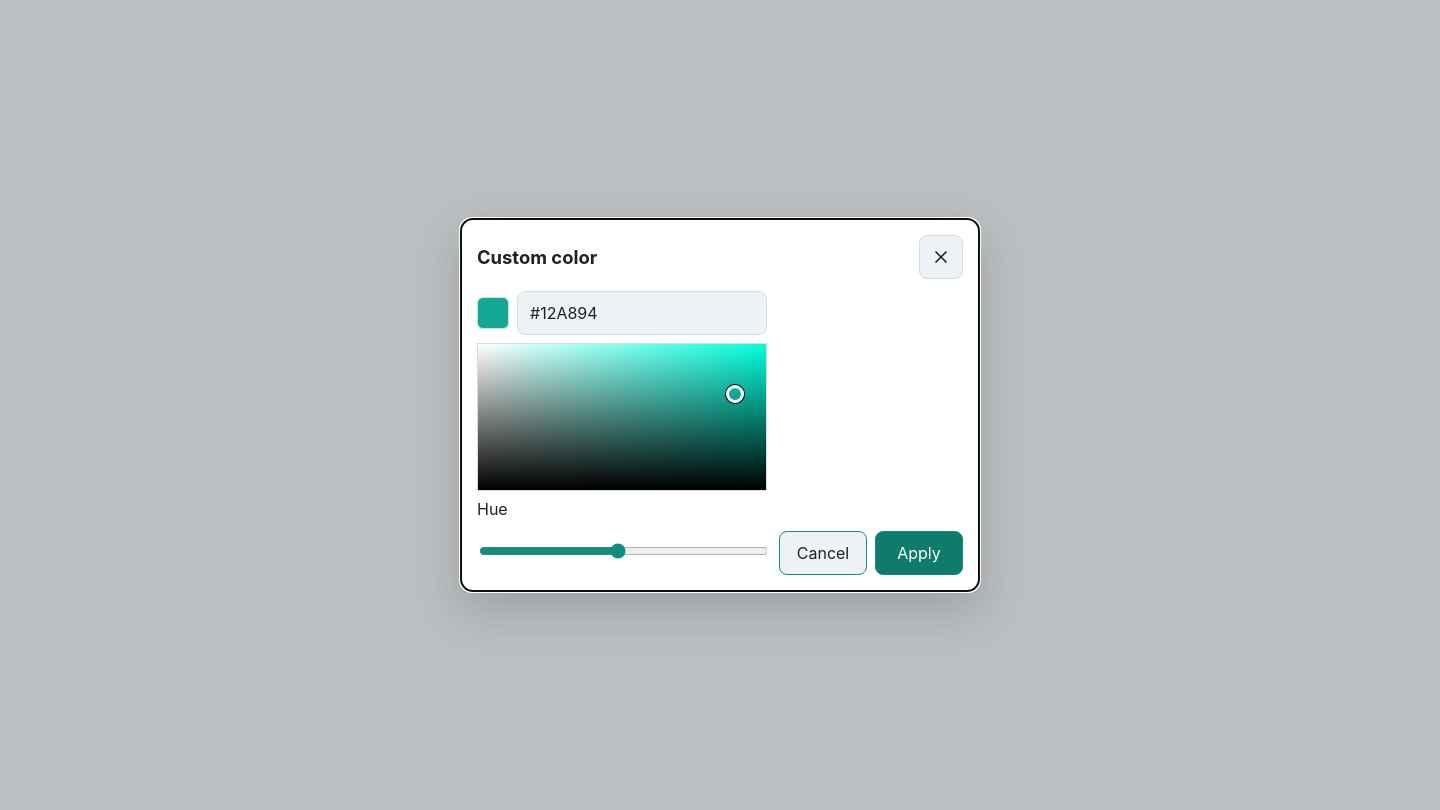
Test: still applies the initial pick when optional pointer capture fails
Press the mouse on the slider named "Saturation and brightness": (622, 417) [477, 343, 767, 491]
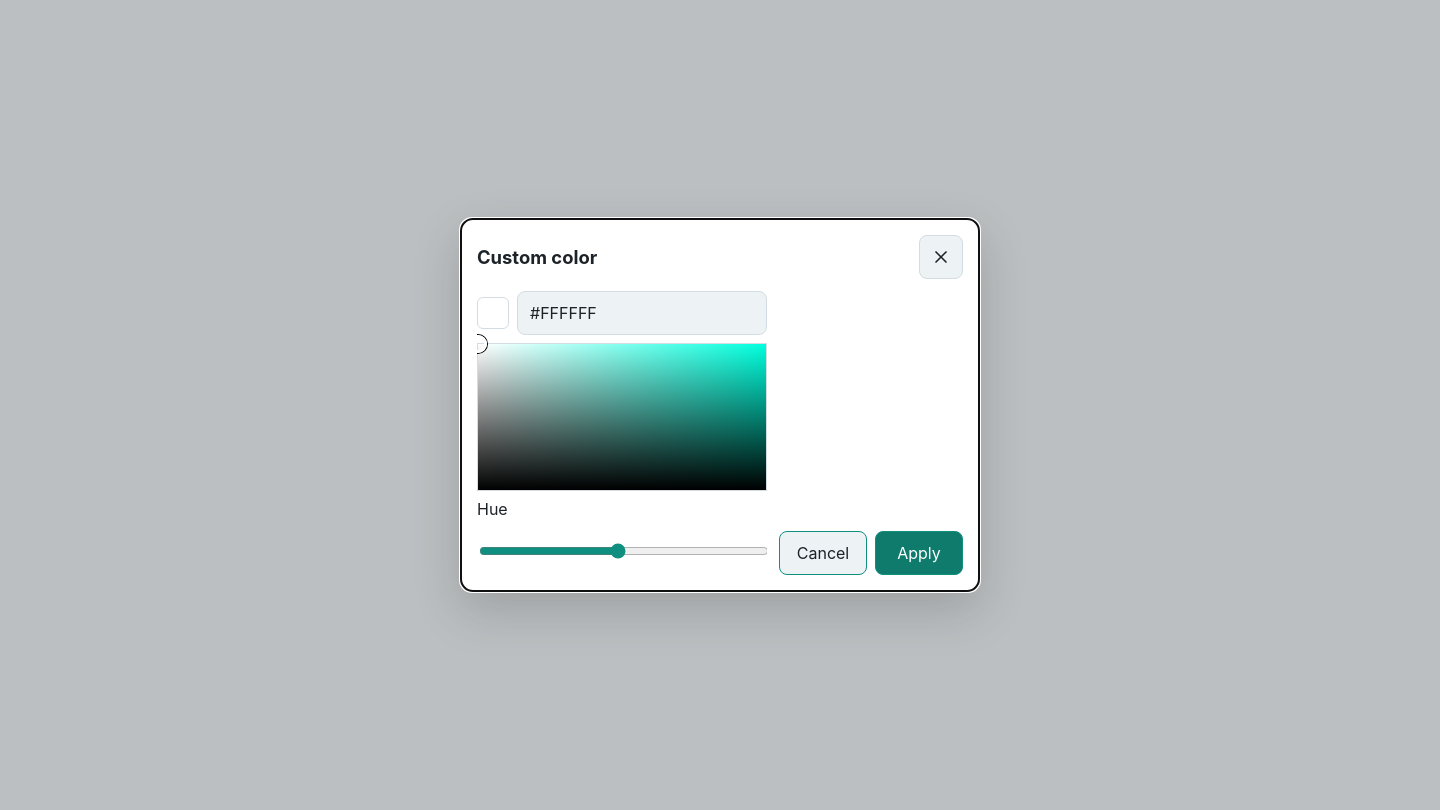
Check: the field named "Hex color" holds "#FFFFFF", box [517, 291, 767, 335]
